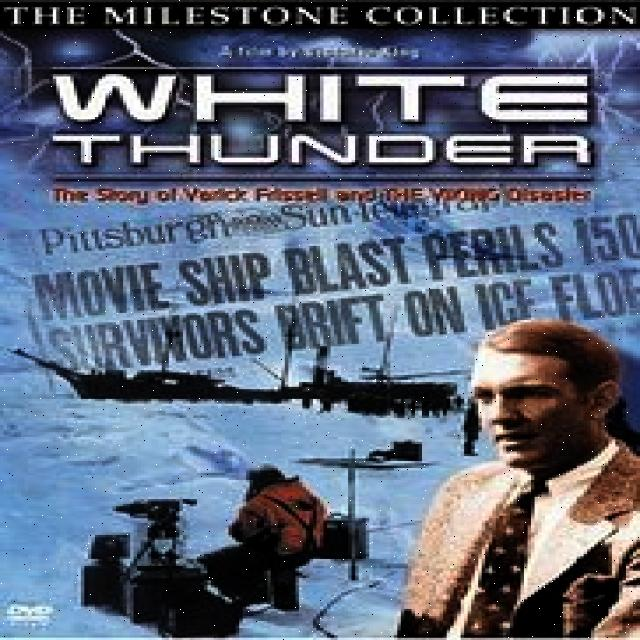movie-judul: (32, 58, 620, 185)
picture: (429, 315, 640, 640), (76, 448, 381, 624)
